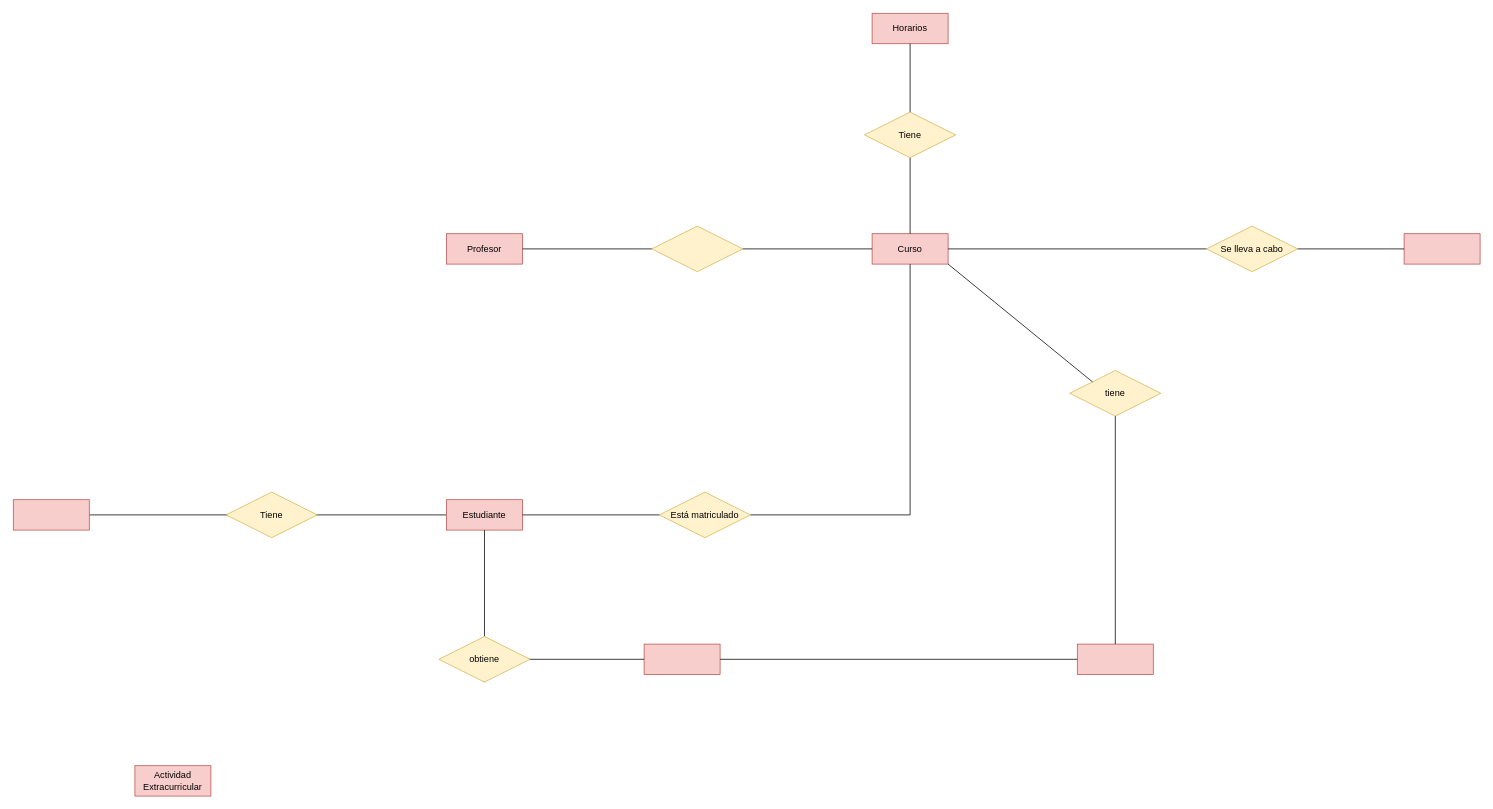
Image size: 1493x809. Some labels were removed from this diagram. The centre of each missing label's shape, as x and y in pixels:
Asistencia: the point at 51,514
Aula: the point at 1441,248
Calificaciones: the point at 681,658
Enseña: the point at 697,248
Materias: the point at 1115,658
